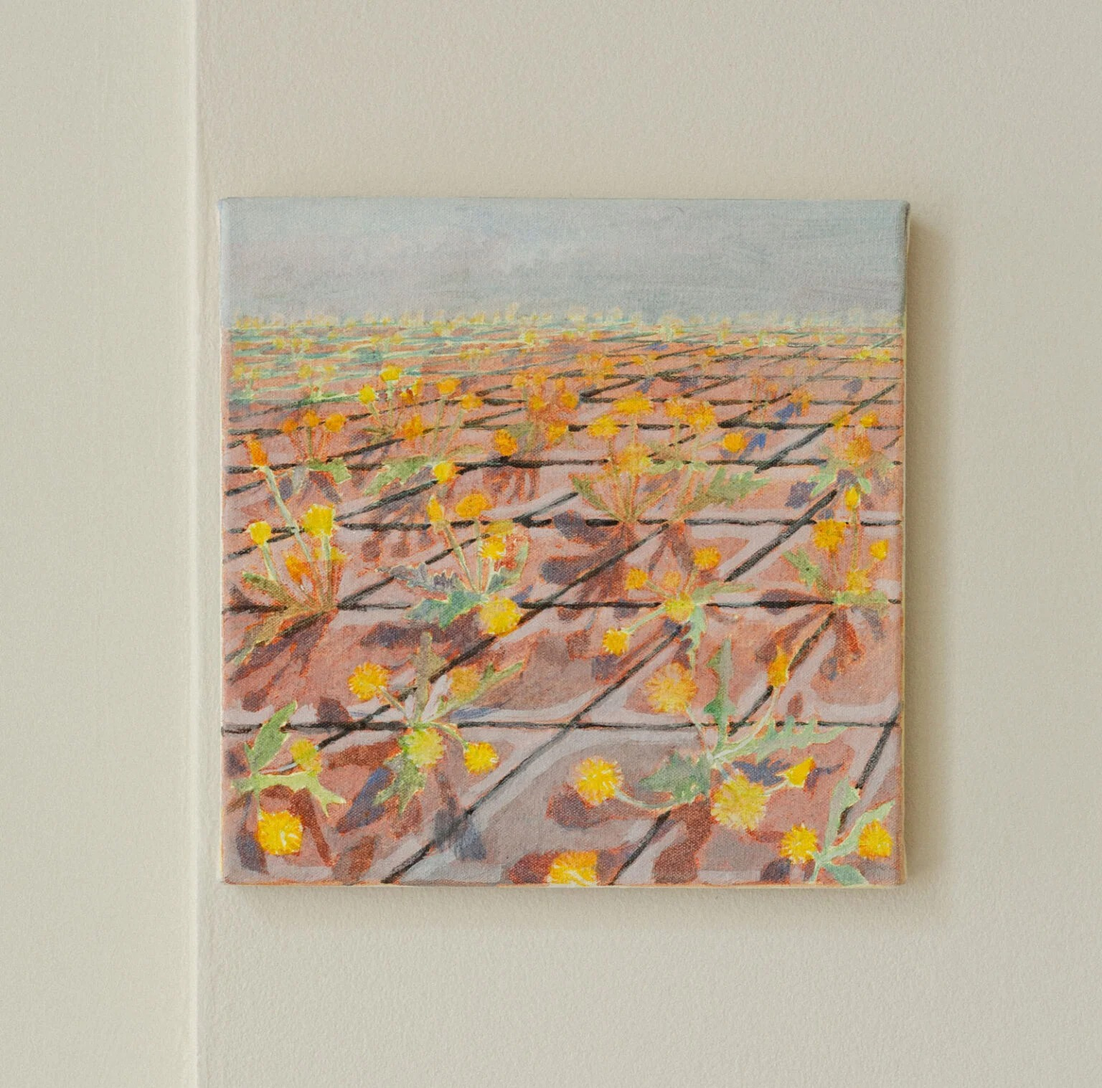painting: (218, 196, 912, 891)
